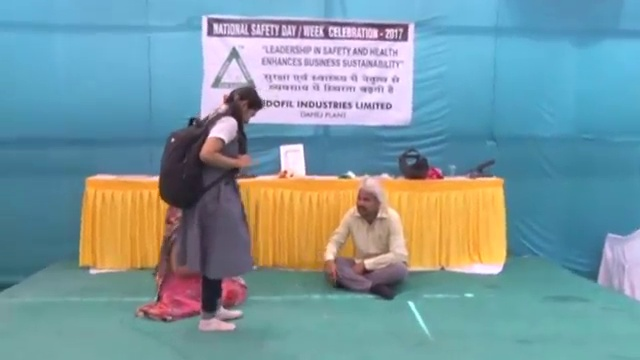helmet_off: (226, 88, 261, 127), (354, 187, 381, 220)
person: (153, 87, 262, 330), (322, 185, 413, 301)
